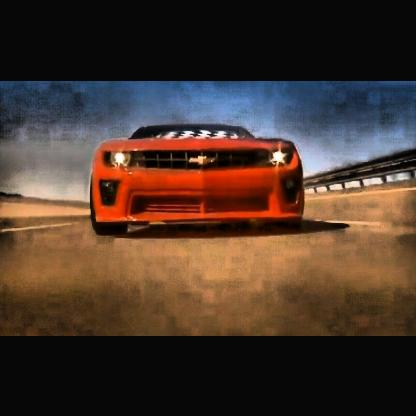Chevrolet Camaro Convertible 2012: (91, 122, 306, 239)
